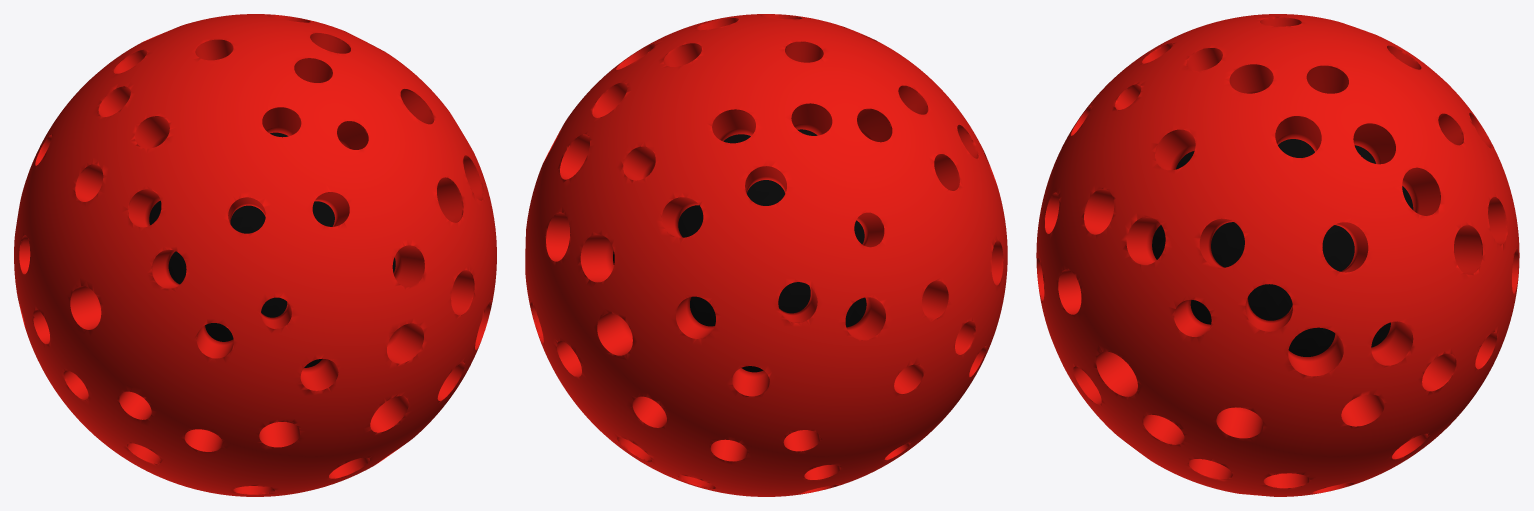
Rendered from gastronomie.glb.
3 renders of one model, left to right at view 1: azimuth 30°, elevation 25°; view 2: azimuth 150°, elevation 25°; view 3: azimuth 270°, elevation 25°, orthographic.
Parts seen in each view (by area): view 1: Gastronomie_Shell, Gastronomie_DarkCore; view 2: Gastronomie_Shell, Gastronomie_DarkCore; view 3: Gastronomie_Shell, Gastronomie_DarkCore.
Boxes of the visible parts, left/top/right/bottom form: Gastronomie_Shell: left=14, top=14, right=496, bottom=496; Gastronomie_DarkCore: left=149, top=132, right=395, bottom=367; Gastronomie_Shell: left=525, top=14, right=1007, bottom=496; Gastronomie_DarkCore: left=613, top=129, right=866, bottom=372; Gastronomie_Shell: left=1036, top=14, right=1519, bottom=496; Gastronomie_DarkCore: left=1152, top=139, right=1413, bottom=356.
Size of the model in its own units: 4 by 4 by 4.
